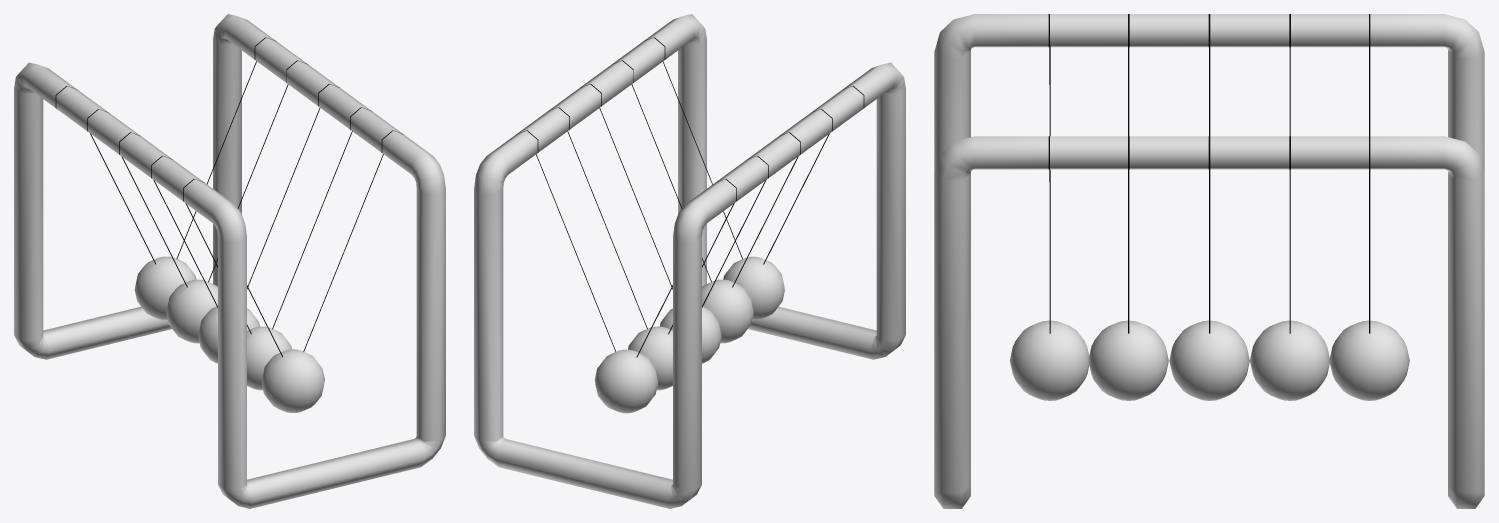
Rendered from NewtonsCradle_01.fbx.
3 views of the same model, side by side, from view 1: azimuth 30°, elevation 25°; view 2: azimuth 150°, elevation 25°; view 3: azimuth 270°, elevation 25° (orthographic). The views are drawn at different scales.
Visible parts, largest first — view 1: NewtonsCradle, Newtons_5, Newtons_1, Newtons_2, Newtons_4, Newtons_3; view 2: NewtonsCradle, Newtons_1, Newtons_5, Newtons_4, Newtons_2, Newtons_3; view 3: NewtonsCradle, Newtons_3, Newtons_5, Newtons_2, Newtons_1, Newtons_4.
Part boxes in pixels (box(x1,y1,x2,y2)): NewtonsCradle: box(14, 14, 445, 508); Newtons_5: box(247, 154, 383, 413); Newtons_1: box(90, 61, 256, 320); Newtons_2: box(121, 84, 288, 343); Newtons_4: box(185, 131, 352, 390); Newtons_3: box(153, 108, 320, 363); NewtonsCradle: box(474, 14, 905, 508); Newtons_1: box(536, 154, 672, 413); Newtons_5: box(663, 61, 829, 320); Newtons_4: box(631, 84, 798, 343); Newtons_2: box(567, 131, 734, 390); Newtons_3: box(599, 108, 766, 363); NewtonsCradle: box(934, 14, 1484, 508); Newtons_3: box(1169, 46, 1249, 400); Newtons_5: box(1009, 46, 1089, 400); Newtons_2: box(1250, 46, 1329, 400); Newtons_1: box(1330, 46, 1409, 400); Newtons_4: box(1089, 46, 1168, 400).
Bounding box in the file's own units: 15.65 × 20.51 × 26.82.
